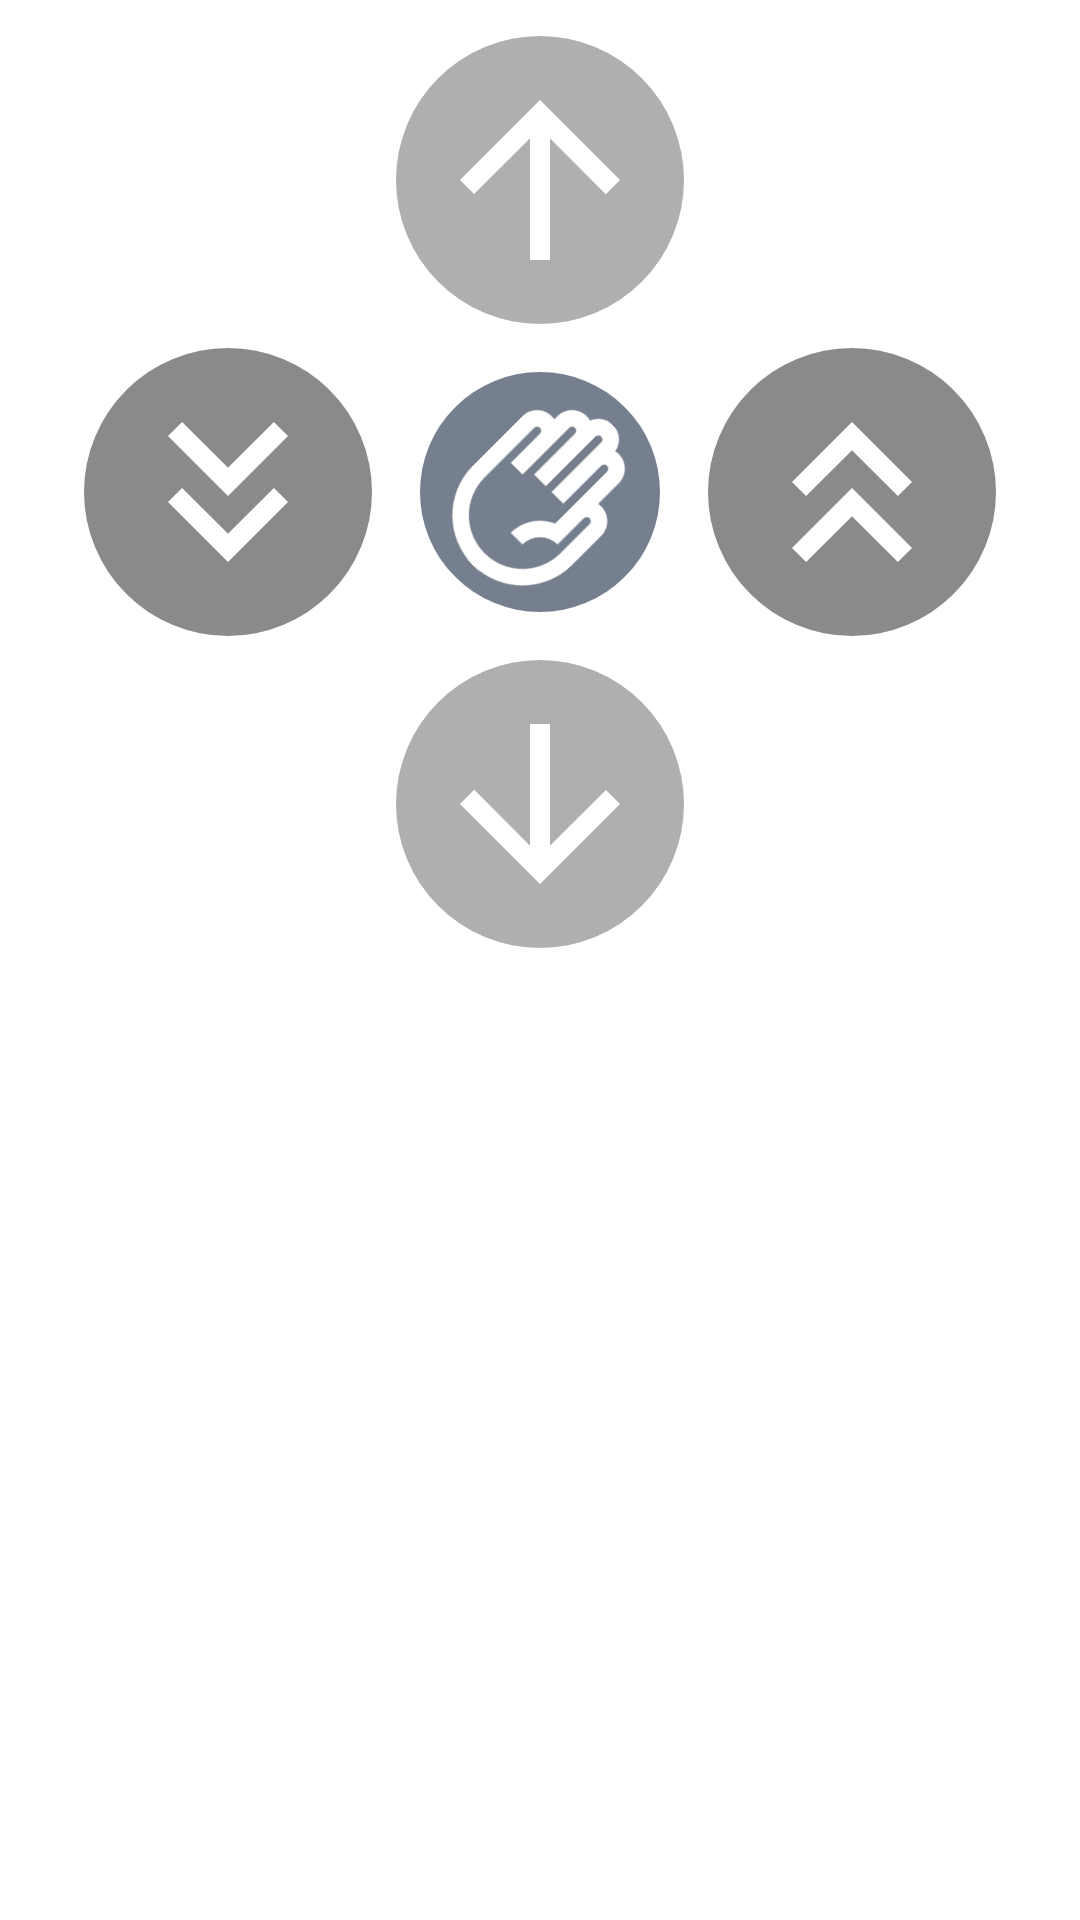

Icon bounding boxes for this 1080px×1920px phone screenshot, format [left=x1, top=y1, right=x2, bottom=y2]:
Down-facing button: [left=396, top=660, right=684, bottom=948]
Up-facing button: [left=396, top=36, right=684, bottom=324]
